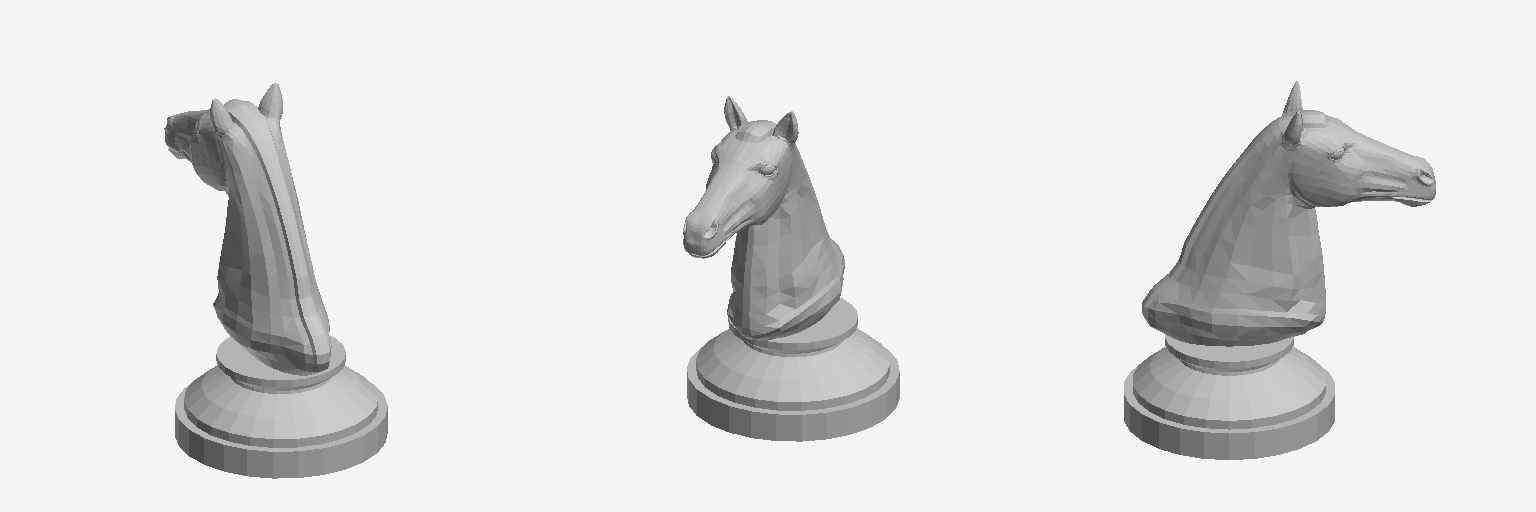
File: knight_black.obj
The picture shows the model from 3 angles: view 1: azimuth 30°, elevation 25°; view 2: azimuth 150°, elevation 25°; view 3: azimuth 270°, elevation 25°; orthographic projection.
Visible parts, largest first — view 1: knight_black_uploads_files_[number redacted]_Chess+Set.006; view 2: knight_black_uploads_files_[number redacted]_Chess+Set.006; view 3: knight_black_uploads_files_[number redacted]_Chess+Set.006.
Boxes of the visible parts, <box> form: knight_black_uploads_files_[number redacted]_Chess+Set.006: <box>164,83,387,478</box>; knight_black_uploads_files_[number redacted]_Chess+Set.006: <box>683,96,899,441</box>; knight_black_uploads_files_[number redacted]_Chess+Set.006: <box>1124,81,1435,459</box>.
Size of the model in its own units: 4.04 by 6.65 by 5.92.